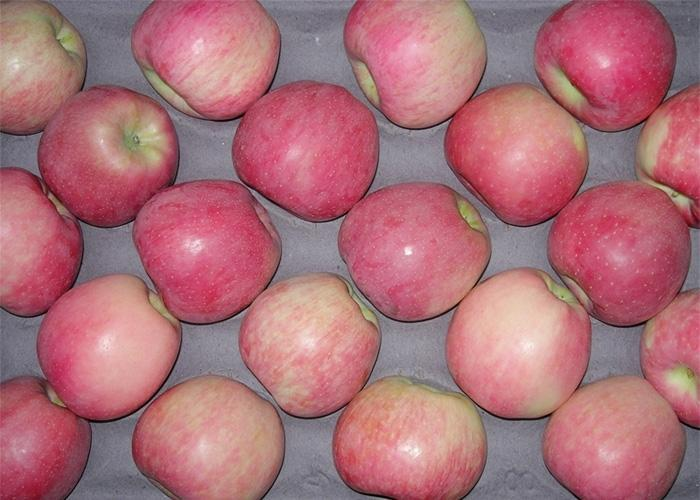apple: (447, 268, 593, 420), (546, 177, 692, 328), (336, 183, 494, 322), (228, 79, 381, 222), (37, 270, 182, 420), (134, 180, 282, 325), (442, 81, 588, 226), (237, 268, 381, 415), (37, 83, 180, 229), (334, 376, 494, 500), (131, 373, 285, 500), (129, 374, 283, 497), (540, 373, 689, 500), (341, 1, 486, 128), (533, 3, 675, 132), (132, 1, 282, 122), (1, 167, 83, 318), (1, 377, 94, 500), (1, 3, 87, 135), (636, 83, 700, 231), (639, 284, 700, 430)
